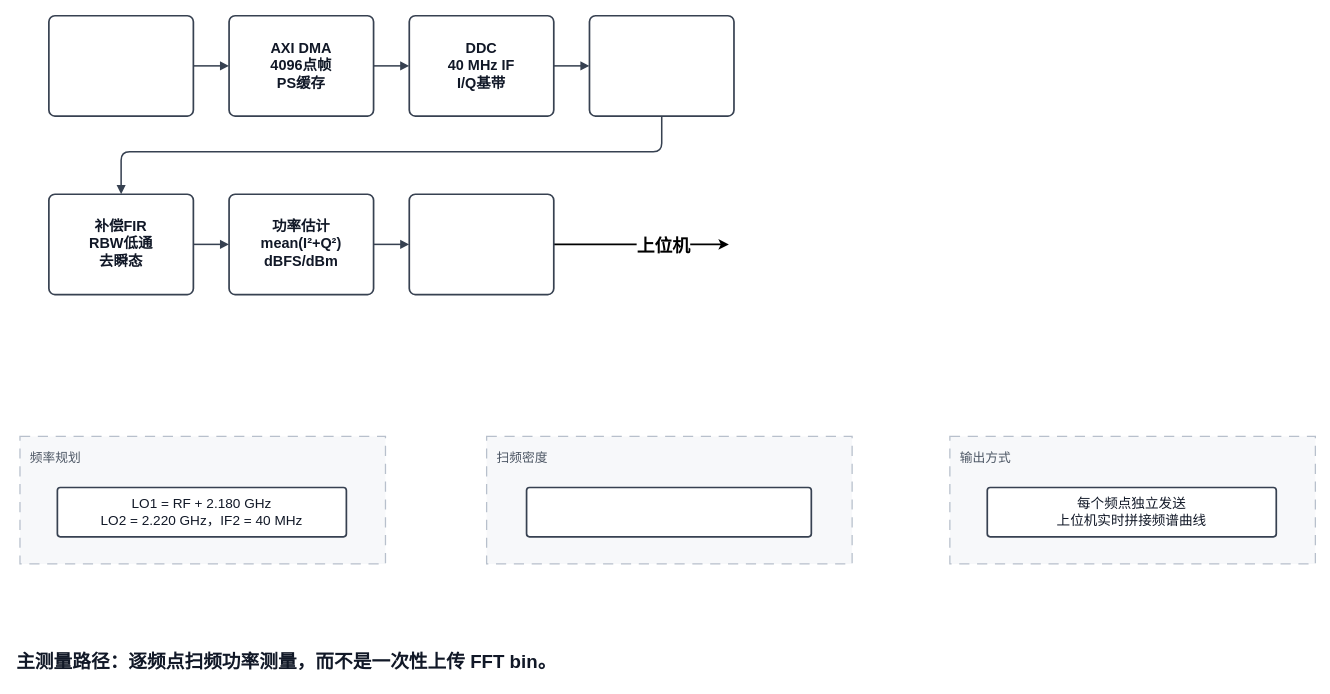
The diagram is 1330 pixels wide and 694 high, and some of its shapes have lost their labels. Here are the shapes that lost their labels. From the top down, the centre of each, then its label:
At [121,65]: "LTC2208 ADC采样 130 MSPS".
At [661,65]: "CIC抽取 按RBW降采样".
At [481,244]: "幅度校正 UART流式 频谱点".
At [668,511]: "内部步进约为 RBW / 2 最大扫频点数 4096".
